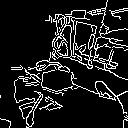cube: (40, 62, 78, 98)
